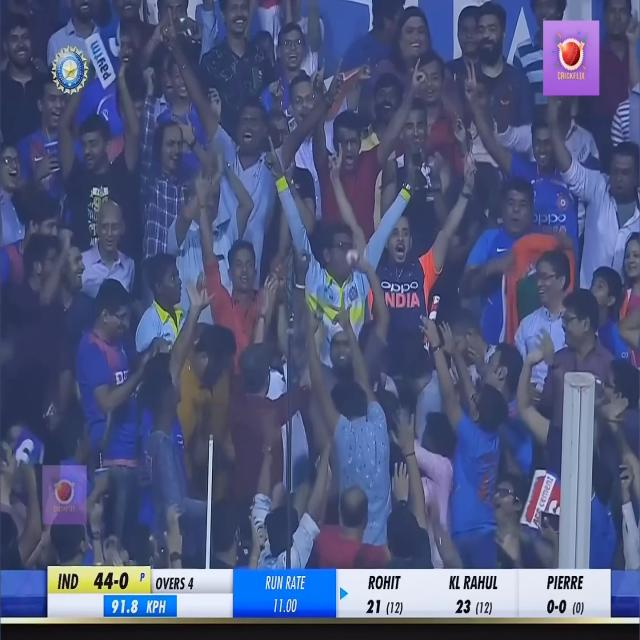fully_visible: (84, 33, 119, 90)
